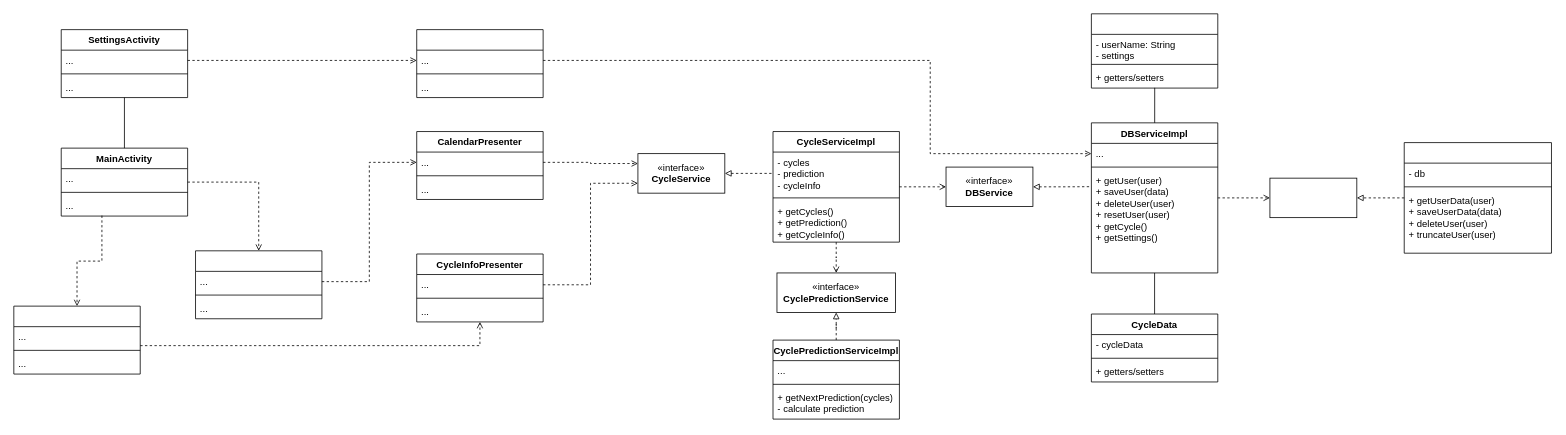
This 1566x435 diagram has some shape labels left out. Here are the shapes that lost their labels. From the top down, the box of each, then its label:
(416, 29, 543, 98): SettingsPresenter
(1091, 13, 1218, 88): UserData
(1269, 177, 1357, 218): «interface» DataSource
(1403, 142, 1551, 253): DataSourceImpl
(195, 250, 322, 319): CalendarComponent
(13, 305, 140, 374): CycleInfoComponent
